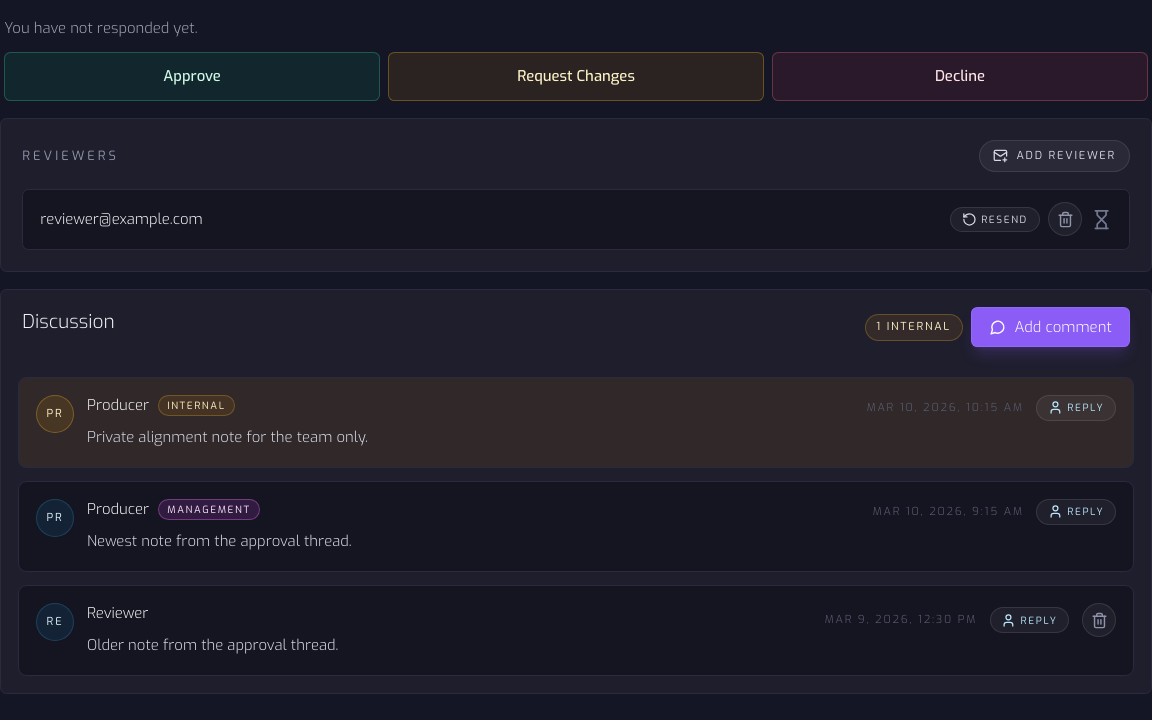
Test: ApprovalDetailView › opens the reply modal with an @mention prefilled
The image size is (1152, 720).
(page scrolled)
Click the button with aria-label "Reply to Producer". click: click(1076, 408)
box: [1036,395,1116,420]
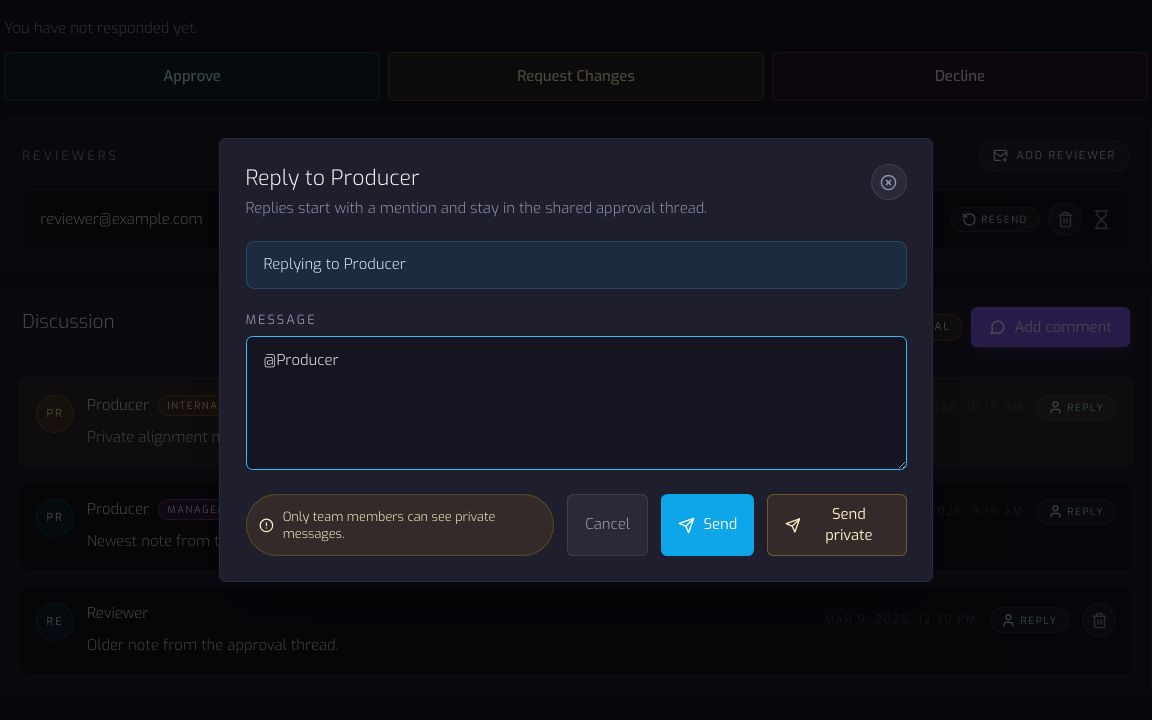
Check: the text box labelled "Message" holds "@Producer ", box [246,336,906,470]
